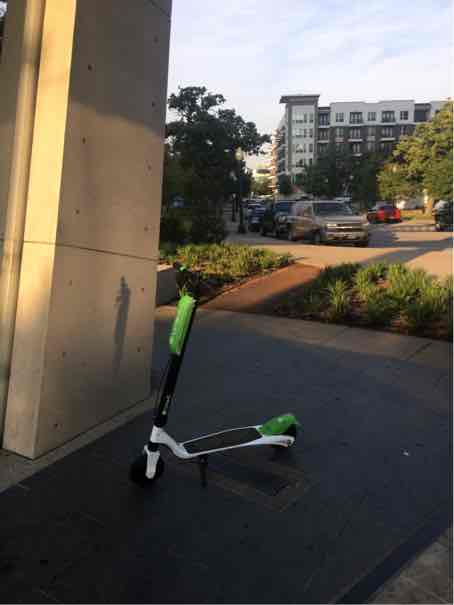scooter: (257, 127, 454, 306)
